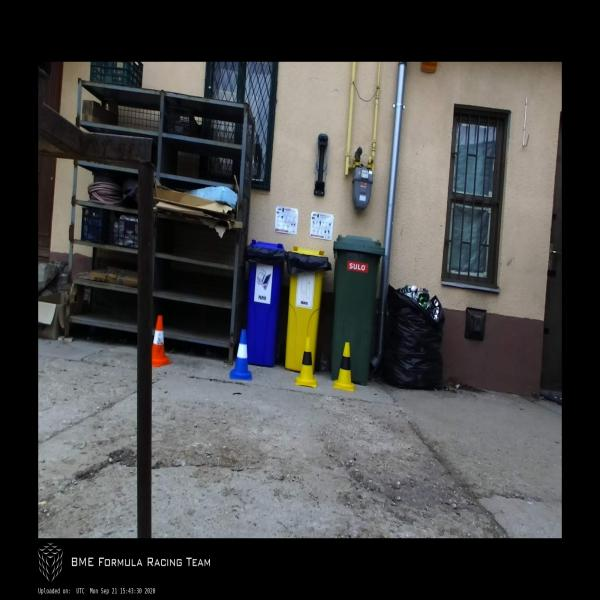blue_cone: (230, 329, 252, 380)
orange_cone: (152, 316, 172, 367)
yellow_cone: (295, 337, 317, 388), (333, 341, 355, 391)
